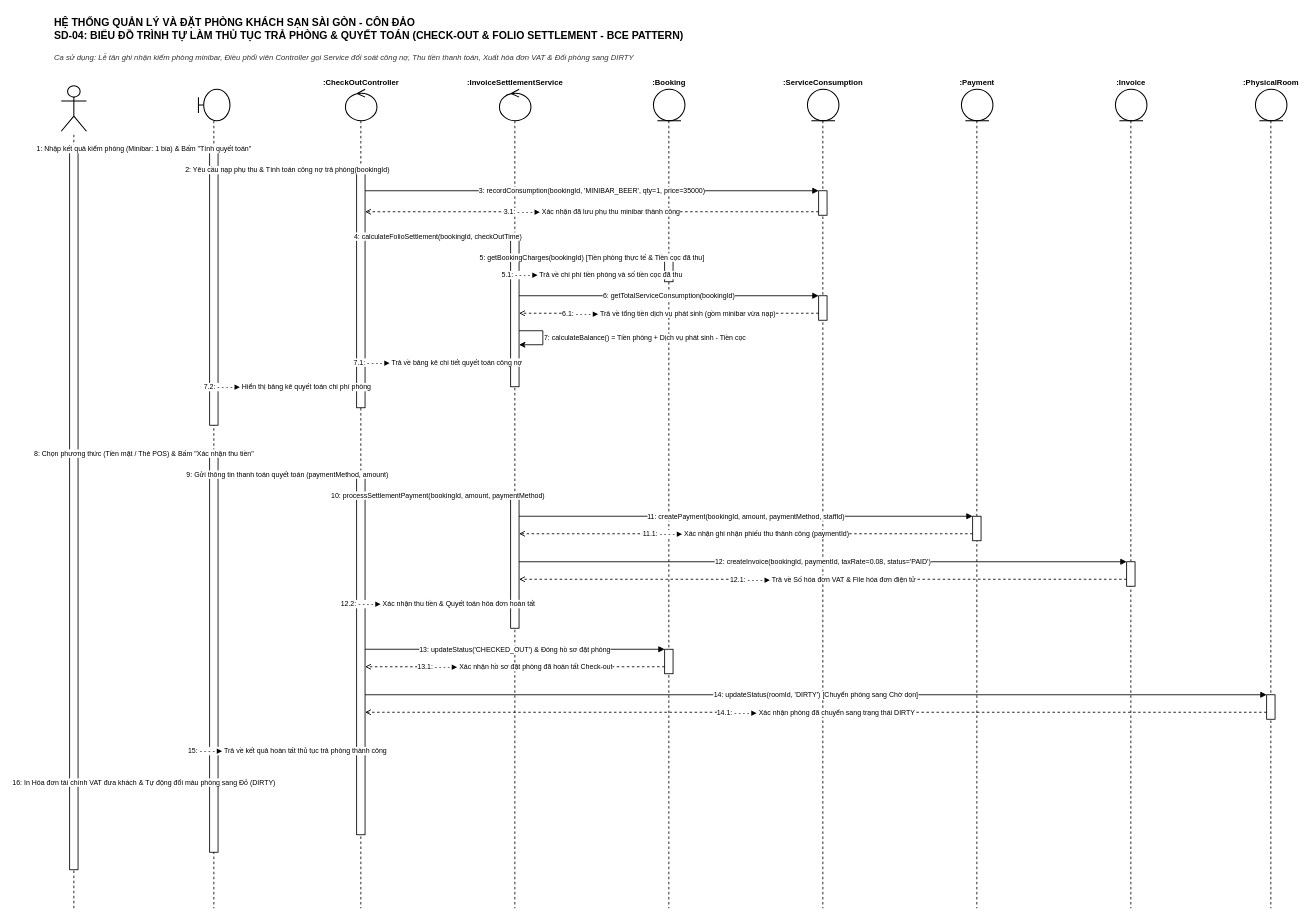
Image size: 1310x921. Some labels were removed from this diagram. Here are the shapes that lost their labels. From the top down, the centre of each, then its label:
At (x=73, y=108): "Nhân viên Lễ tân (Receptionist)".
At (x=214, y=104): ":CheckOutBillingUI".
